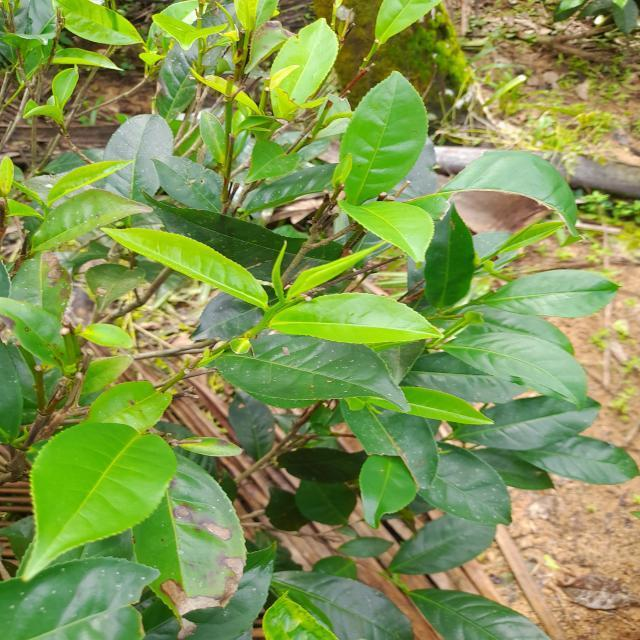Stem: (266, 308, 274, 315), (44, 207, 49, 212)
